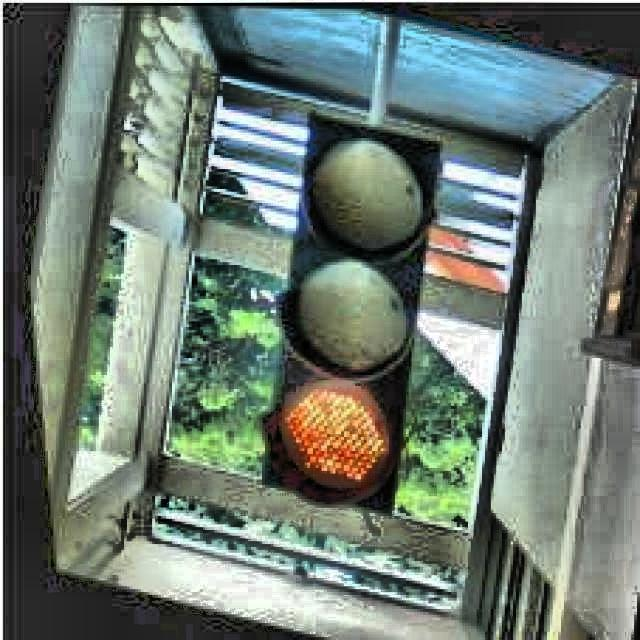red: (264, 106, 435, 518)
